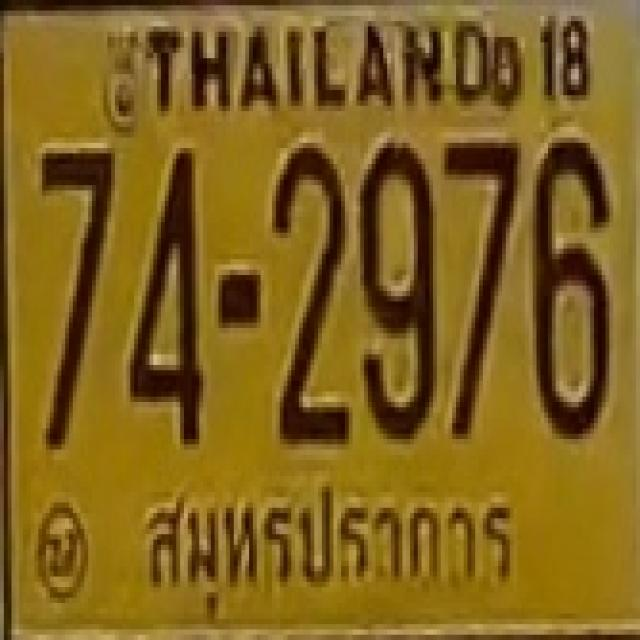2: (274, 142, 343, 412)
4: (126, 146, 200, 442)
6: (529, 138, 605, 434)
7: (441, 138, 517, 428), (38, 148, 111, 434), (441, 137, 517, 381), (40, 148, 113, 376), (40, 148, 113, 344), (441, 138, 517, 318), (38, 148, 111, 323)
9: (356, 140, 433, 437)
SPK: (129, 478, 523, 609)
